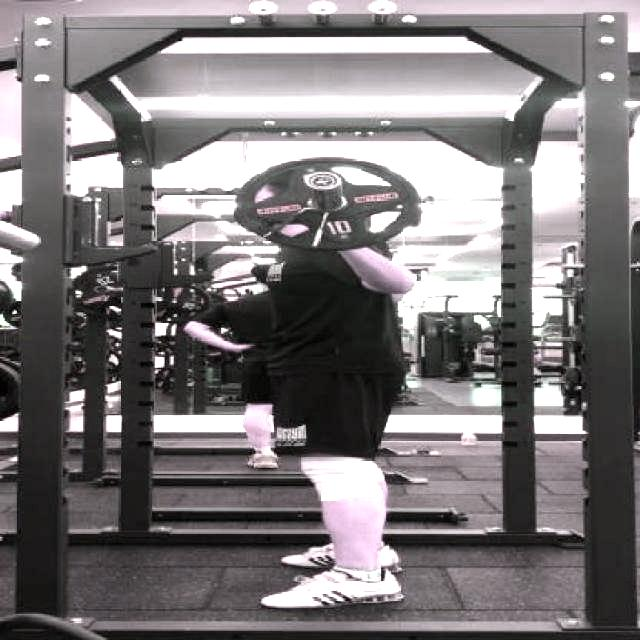barbell: (213, 148, 434, 261)
